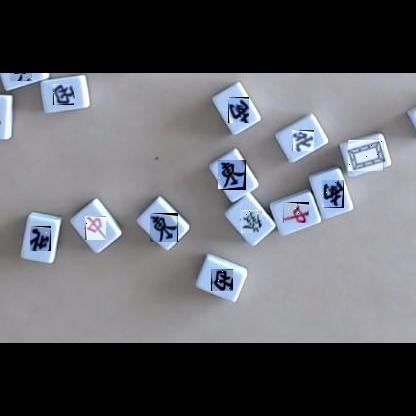1z: (218, 160, 246, 190), (150, 213, 178, 242)
2z: (322, 180, 344, 208), (228, 97, 249, 123)
3z: (211, 269, 233, 291), (53, 84, 74, 105)
4z: (30, 226, 51, 251), (292, 130, 314, 151)
5z: (348, 140, 384, 171)
6z: (240, 210, 262, 233), (10, 73, 32, 81)
7z: (283, 202, 309, 223), (85, 216, 106, 240)
